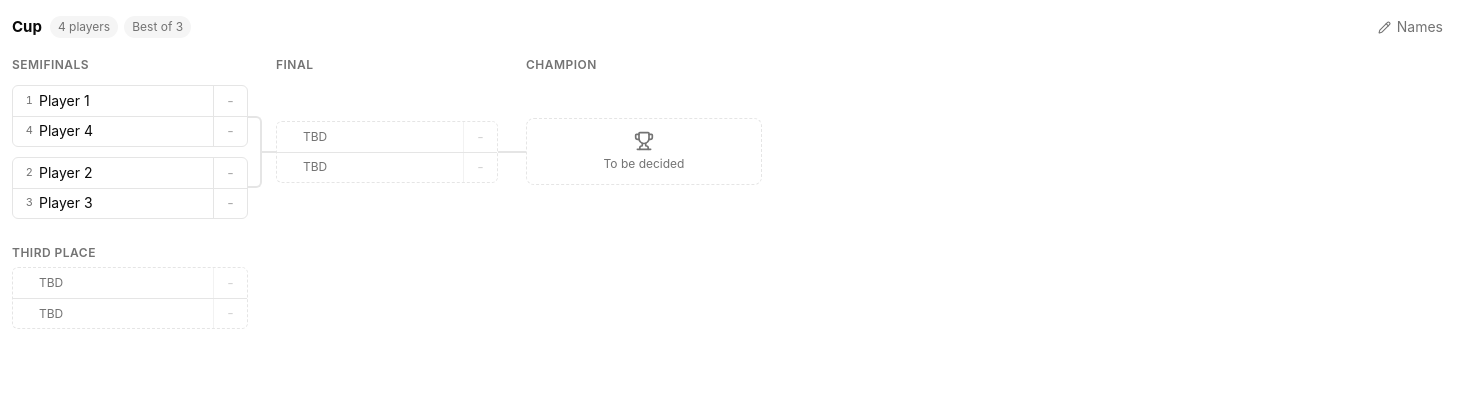
Test: Bracket › renames participants inline
The width and height of the screenshot is (1464, 410).
Click the button "Names": coordinates (1410, 27) [1369,12,1452,42]
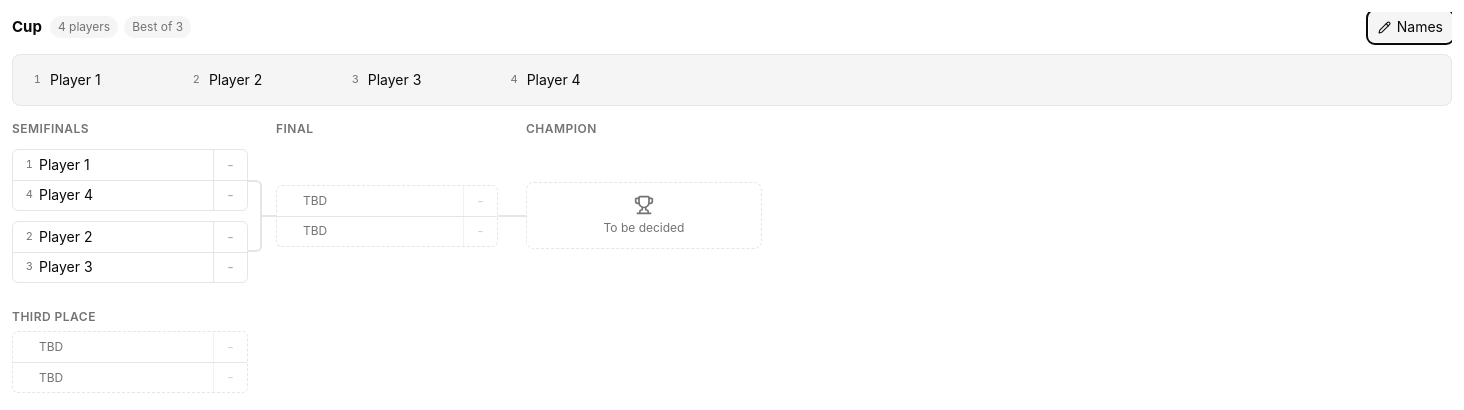
Replace the text in the field named "Name of seed 4" with "Underdog": coordinates (585, 80) [522,67,649,93]
Then press Enter
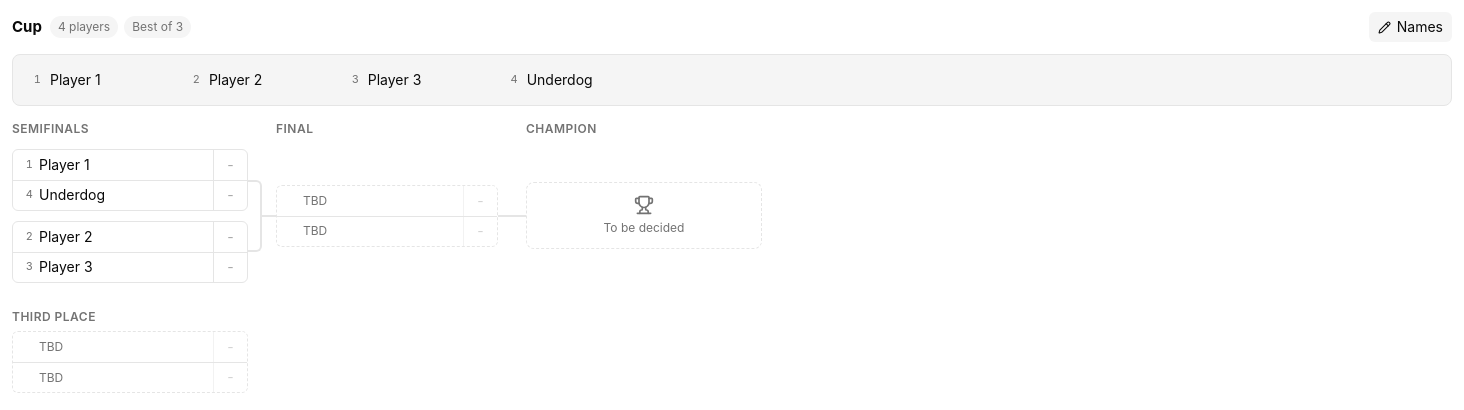
Expected: the text "Underdog" is shown, [39,185,105,205]
